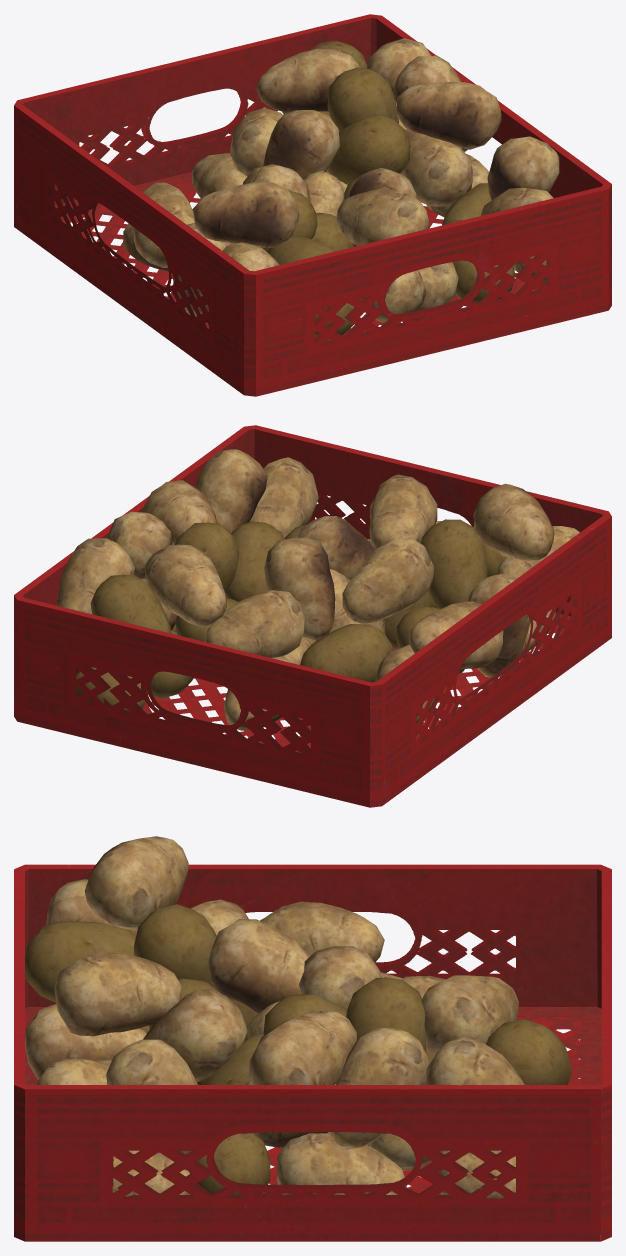
File: Prop_Potatoes_Crate.fbx
3 renders of one model, top to bottom at view 1: azimuth 30°, elevation 25°; view 2: azimuth 150°, elevation 25°; view 3: azimuth 270°, elevation 25°, orthographic. The views are drawn at different scales.
Parts seen in each view (by area): view 1: Box_Red, Potatoes; view 2: Box_Red, Potatoes; view 3: Box_Red, Potatoes.
Boxes of the visible parts, x1=… form: Box_Red: x1=14, y1=14, x2=611, y2=396; Potatoes: x1=123, y1=38, x2=559, y2=340; Box_Red: x1=14, y1=425, x2=611, y2=807; Potatoes: x1=56, y1=449, x2=579, y2=730; Box_Red: x1=14, y1=864, x2=611, y2=1241; Potatoes: x1=25, y1=836, x2=571, y2=1198.
Bounding box in the file's own units: 28.84 × 12.36 × 32.42.
